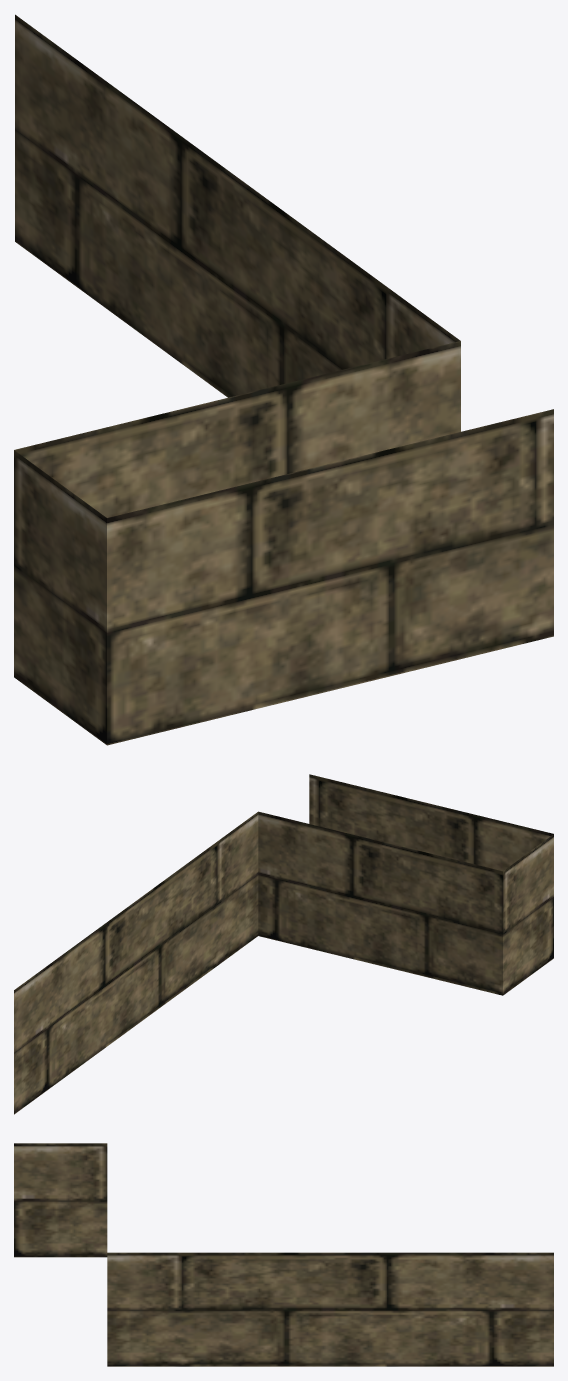
The model's file is OVERHILL_A_01_LINE155.fbx.
3 renders of one model, top to bottom at view 1: azimuth 30°, elevation 25°; view 2: azimuth 150°, elevation 25°; view 3: azimuth 270°, elevation 25°, orthographic. The views are drawn at different scales.
Visible parts, largest first — view 1: OVERHILL_A_01_LINE155; view 2: OVERHILL_A_01_LINE155; view 3: OVERHILL_A_01_LINE155.
Part boxes in pixels (x1,y1,x2,y2): OVERHILL_A_01_LINE155: (14, 14, 553, 745); OVERHILL_A_01_LINE155: (14, 774, 553, 1114); OVERHILL_A_01_LINE155: (14, 1143, 553, 1366).
Bounding box in the file's own units: 15001 × 7290 × 31329.
Materials: 1 (1 with a texture image).
